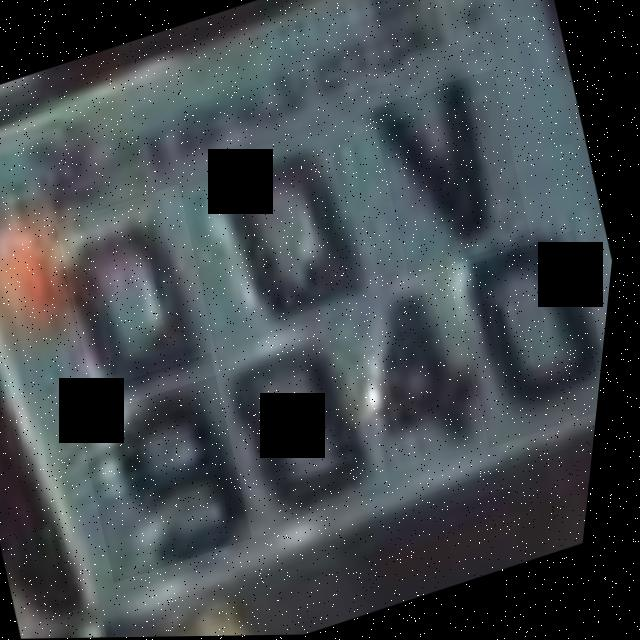0: (441, 231, 621, 449)
4: (321, 264, 514, 499)
8: (199, 314, 396, 541)
9: (67, 352, 279, 585)
O: (45, 184, 245, 415)
V: (360, 69, 551, 281)
